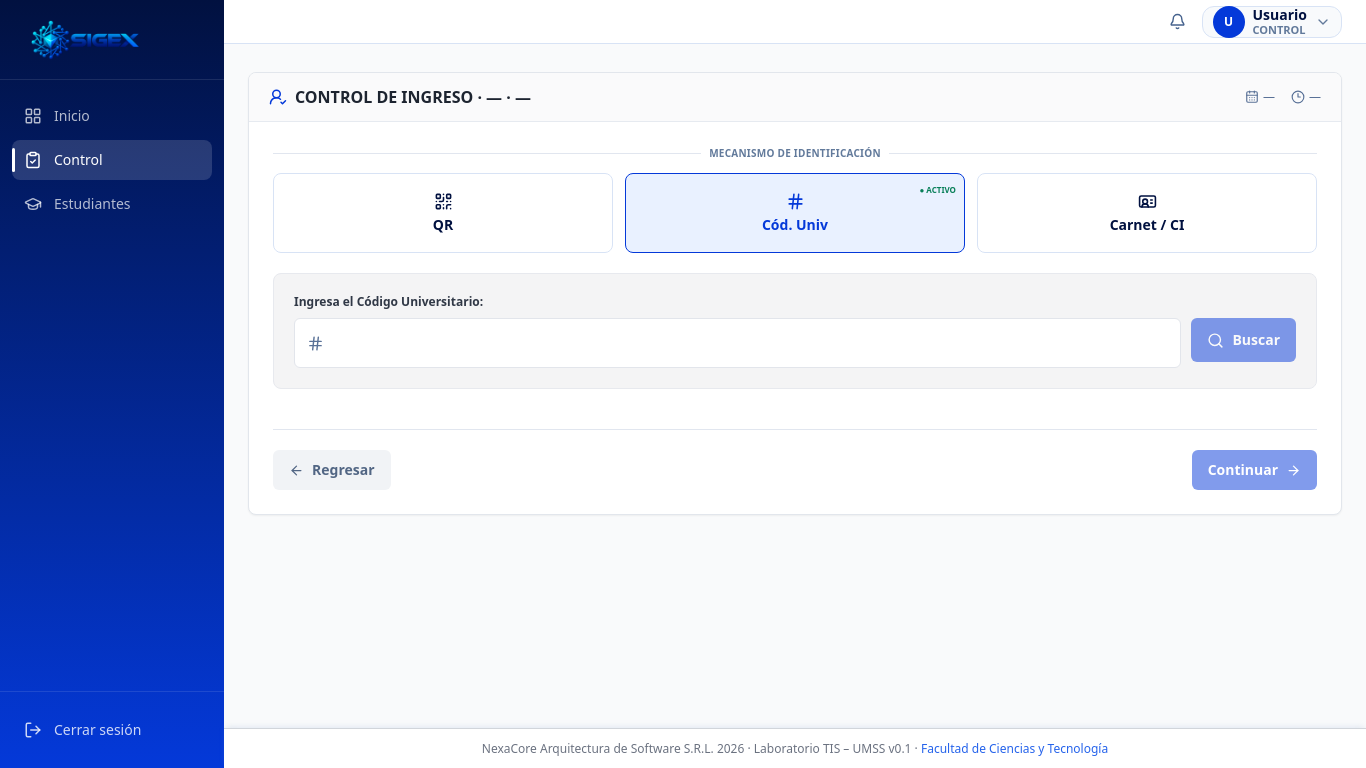
Identificación por QR › muestra un mensaje claro si se niega el permiso
This screenshot has width=1366, height=768.
Click the button "QR". click: x=443, y=213
box: [273,173,613,253]
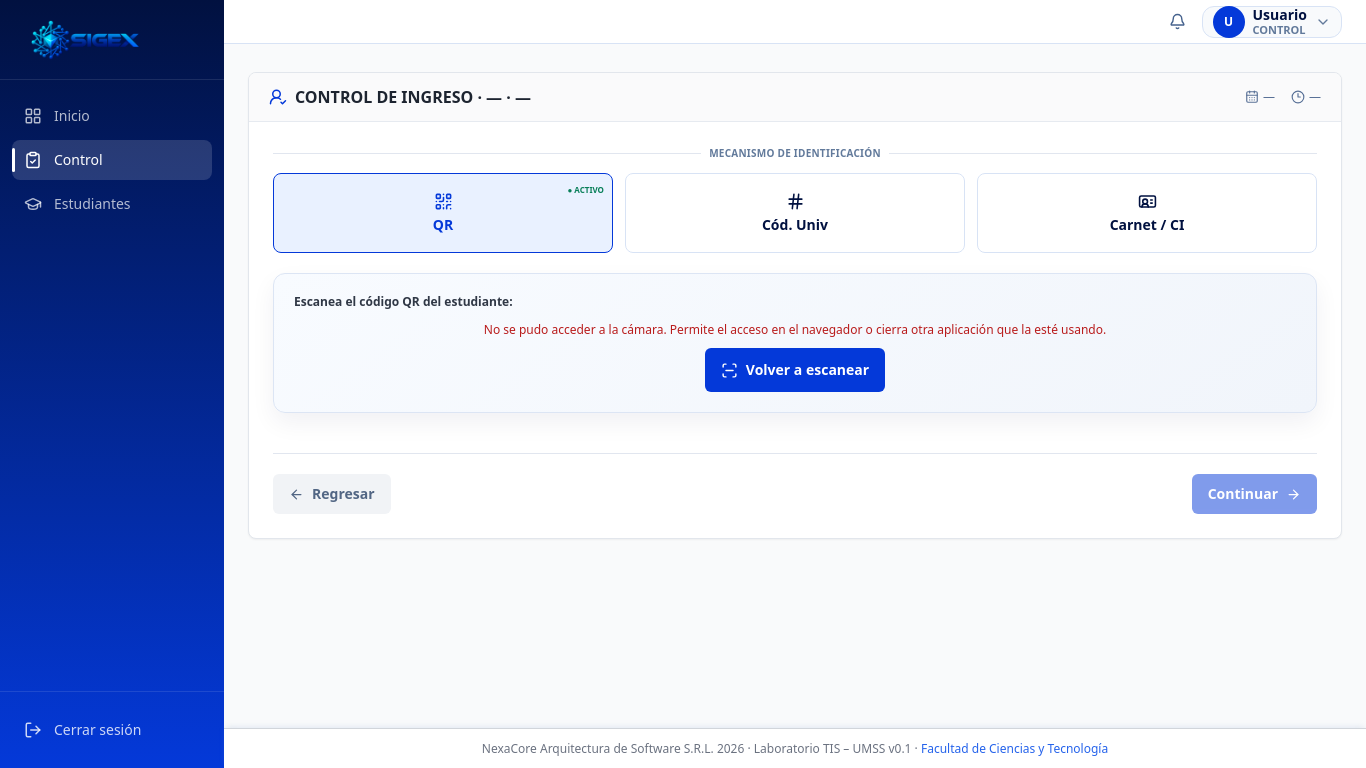
Check: the message shows "No se pudo acceder a la cámara. Permite el acceso en el navegador o cierra otra aplicación que la esté usando.", box [484,321,1106,338]
Check: the button "Volver a escanear" is shown, box [705,348,885,392]
